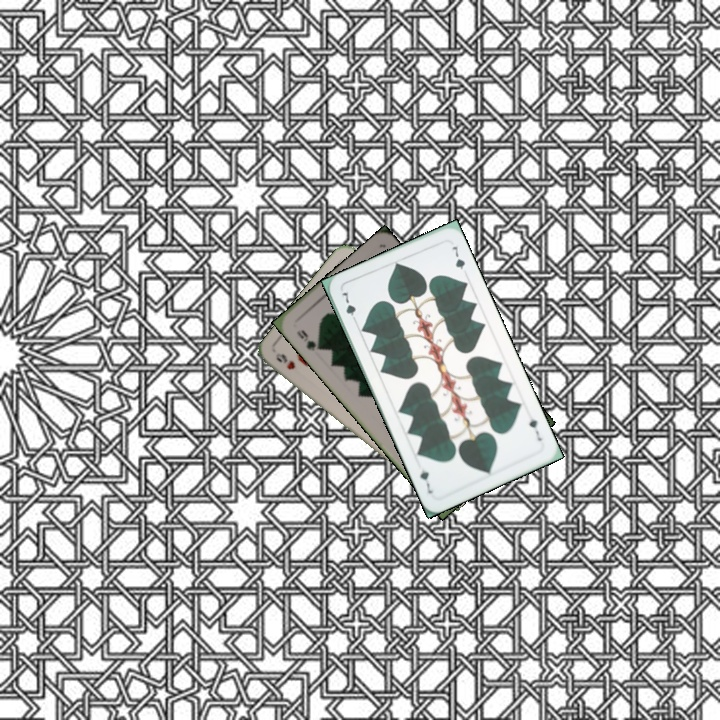G7: (337, 288, 360, 326), (525, 414, 544, 444)
G9: (292, 326, 325, 354)
H9: (271, 349, 298, 372)
